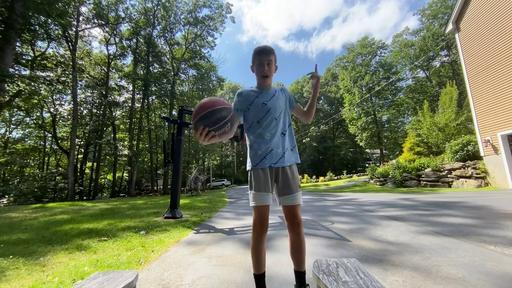ball: (193, 96, 235, 140)
human: (194, 45, 321, 288)
